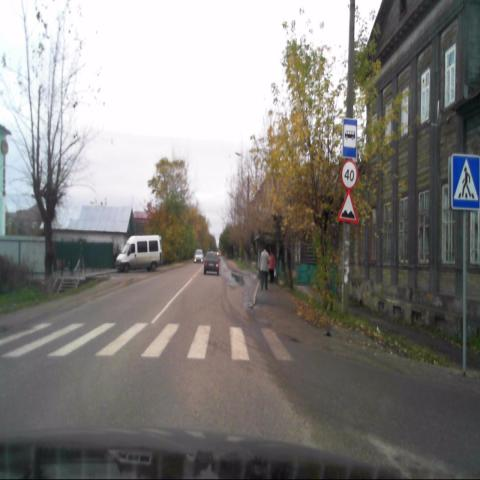1_16: (338, 194, 359, 222)
